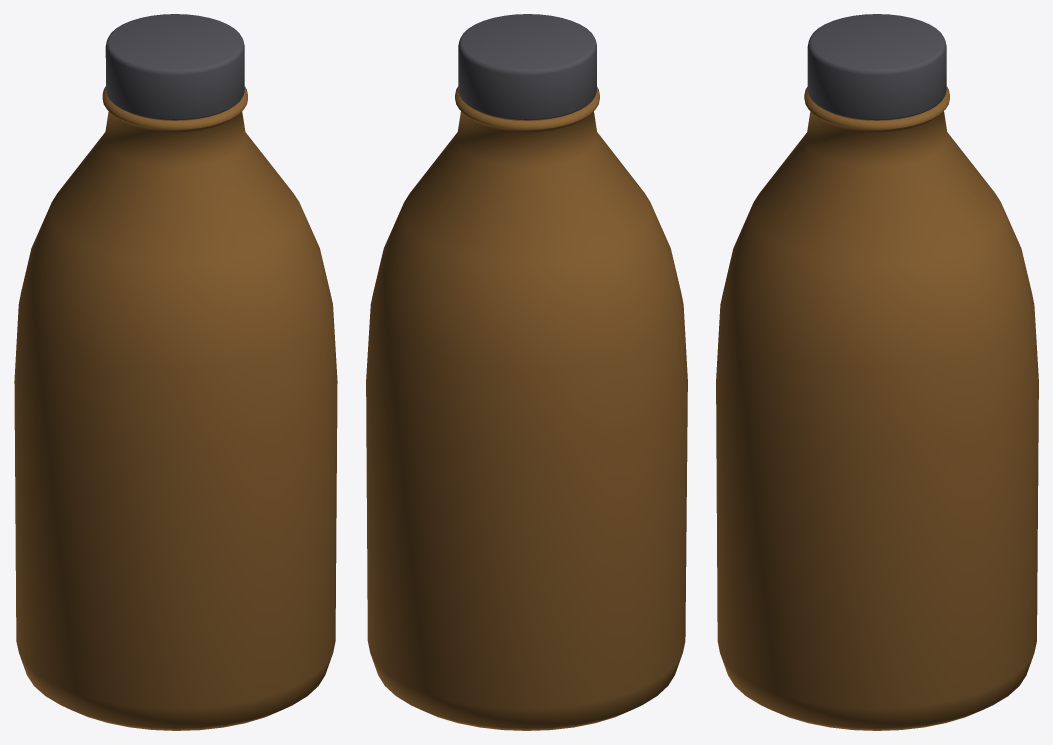
File: bottle_growler_lod1.glb
3 renders of one model, left to right at view 1: azimuth 30°, elevation 25°; view 2: azimuth 150°, elevation 25°; view 3: azimuth 270°, elevation 25°, orthographic.
Visible parts, largest first — view 1: Glass, Cap; view 2: Glass, Cap; view 3: Glass, Cap.
Part boxes in pixels (box(x1,y1,x2,y2)): Glass: box(14, 86, 337, 730); Cap: box(105, 14, 244, 120); Glass: box(366, 86, 687, 730); Cap: box(458, 14, 596, 120); Glass: box(716, 86, 1038, 730); Cap: box(807, 14, 946, 120).
Bounding box in the file's own units: 0.1004 × 0.2172 × 0.1008.
